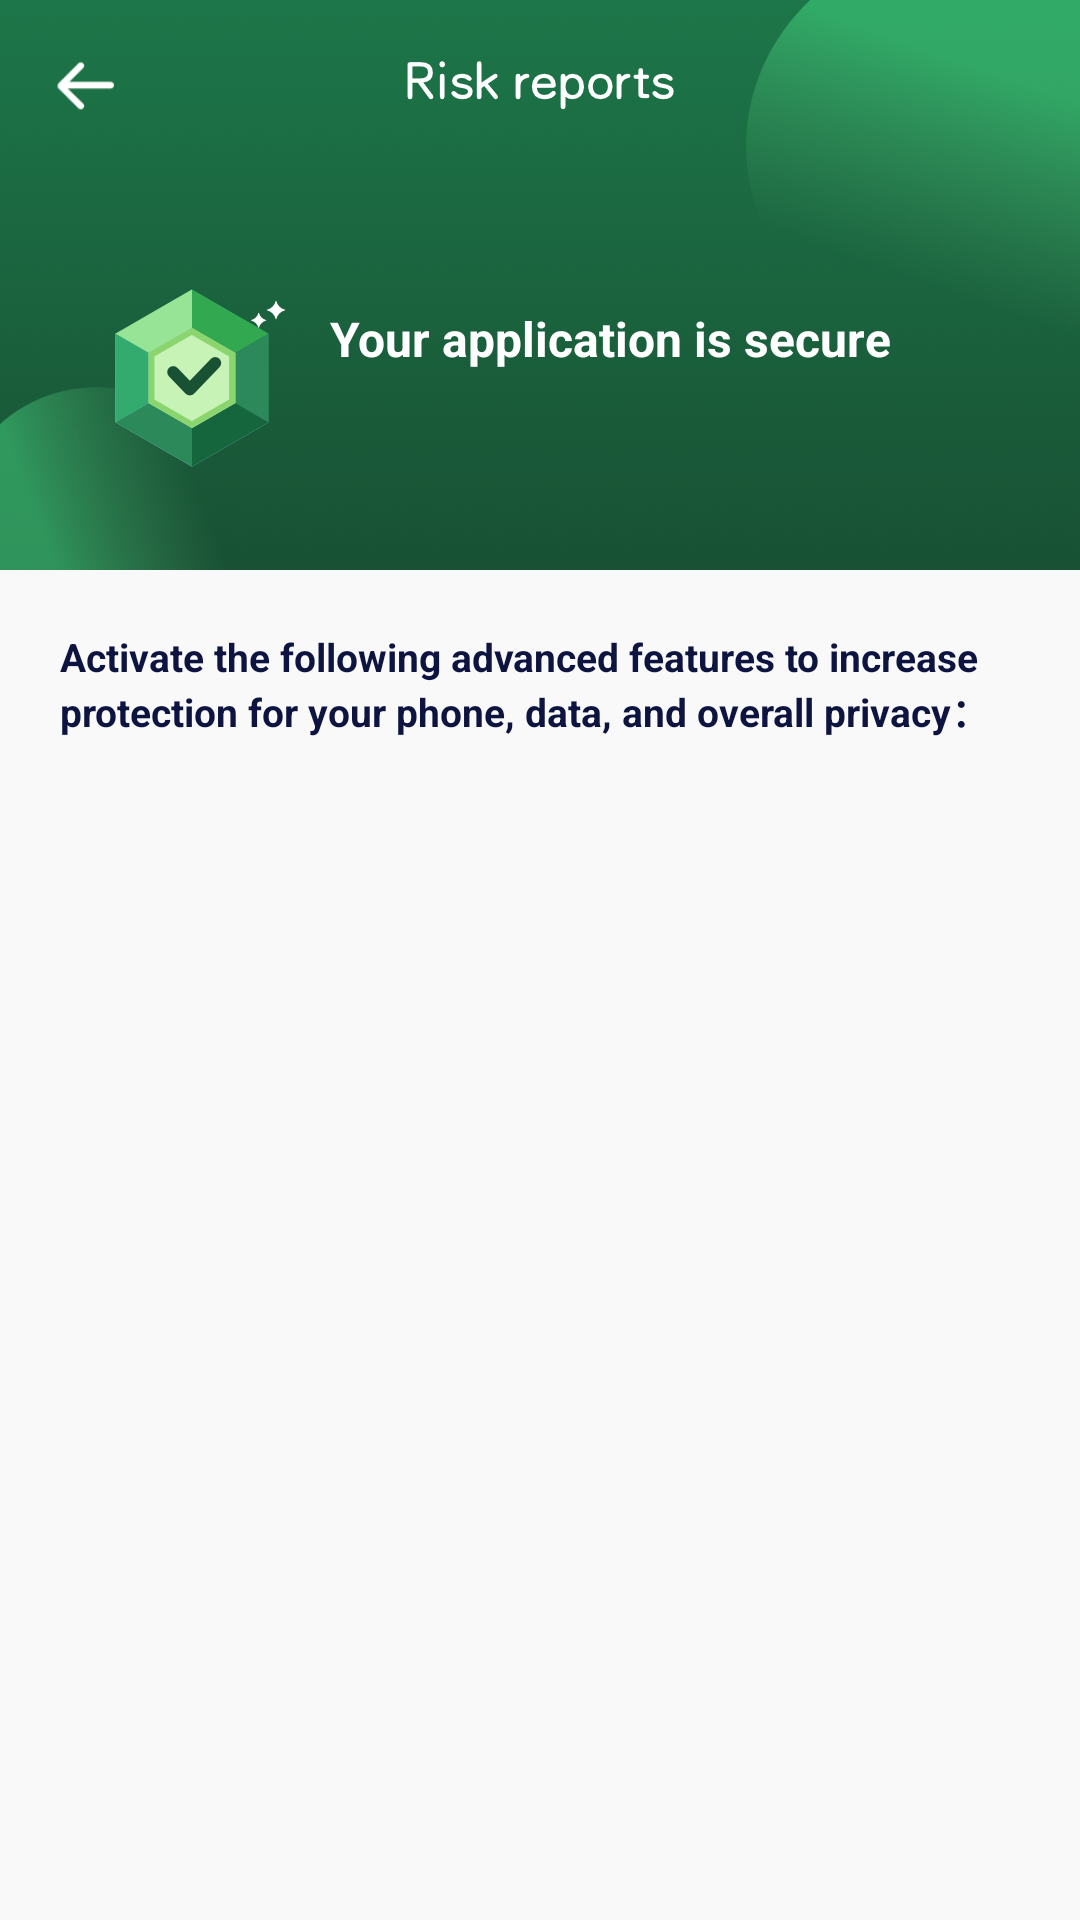

Icons on this 1080x1920 Android screen, each with the point to tap as (x,y):
back: (85,86)
